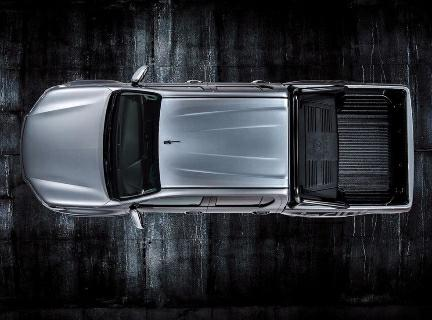丰田-Hilux: (23, 65, 421, 230)
